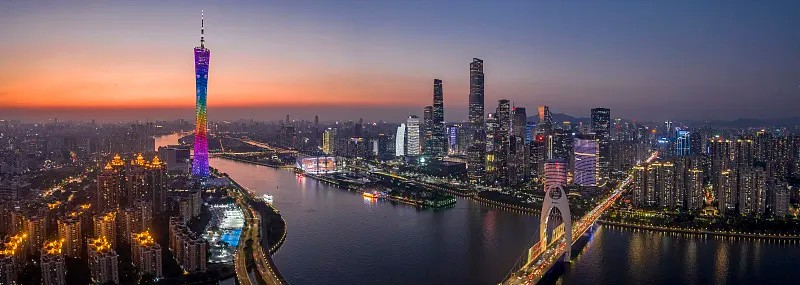Canton: (194, 8, 210, 178)
